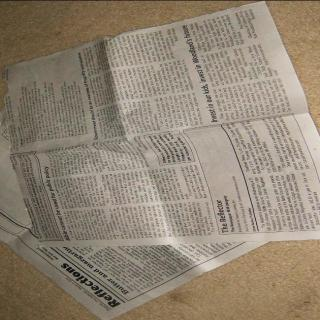Anorganik: (5, 10, 320, 248), (8, 244, 270, 316)
